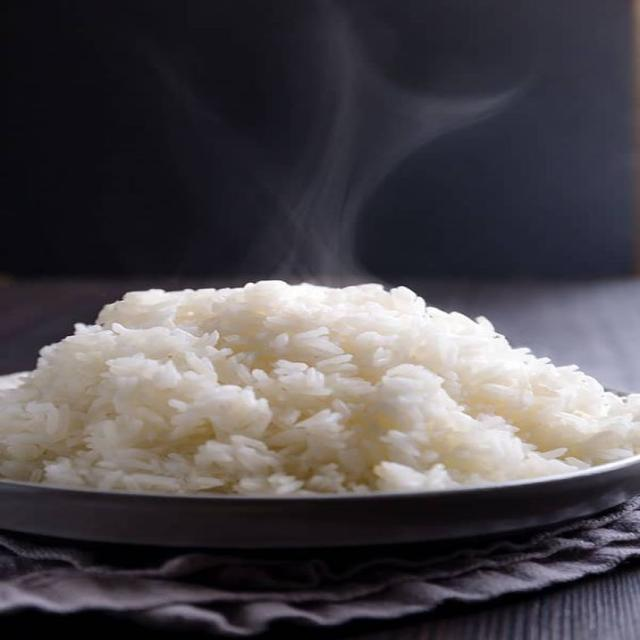nasi_putih: (21, 274, 634, 518)
